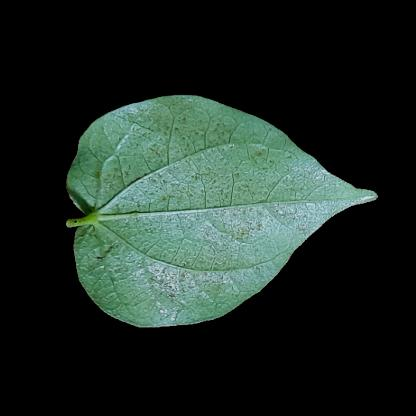healthy: (107, 150, 285, 276), (104, 276, 256, 314), (141, 101, 219, 148), (286, 178, 339, 236)
